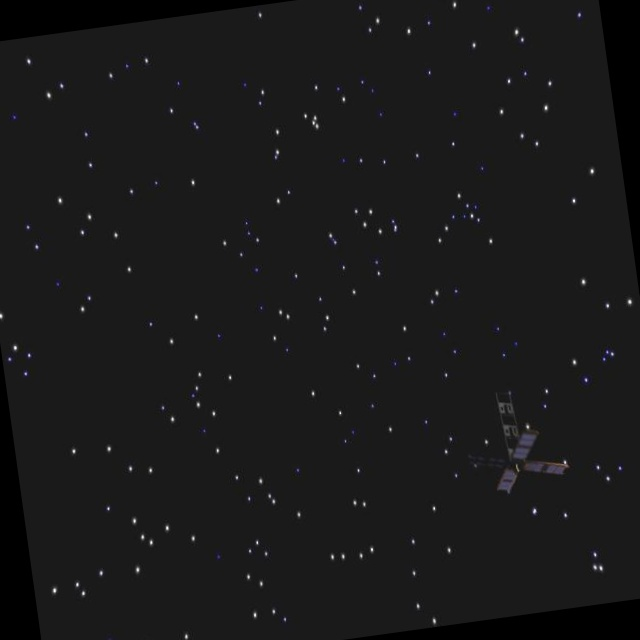medium_debris: (454, 376, 577, 504)
